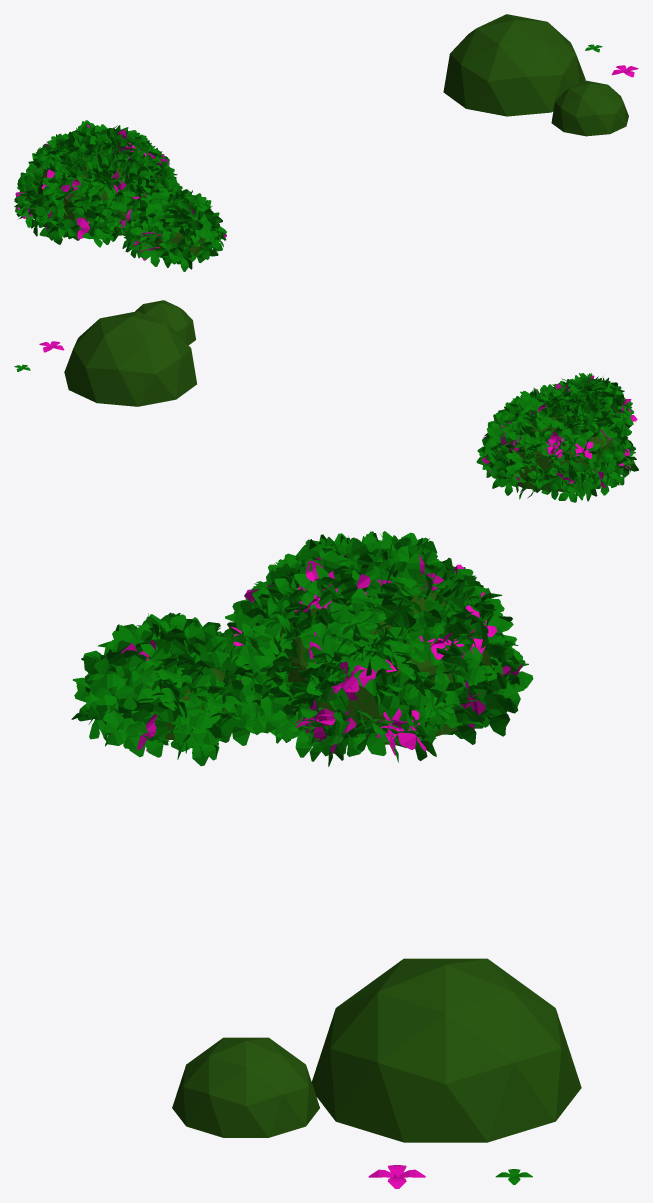
File: Arbusto_Colorido.fbx
The picture shows the model from 3 angles, top to bottom: view 1: azimuth 30°, elevation 25°; view 2: azimuth 150°, elevation 25°; view 3: azimuth 270°, elevation 25°; orthographic projection. The views are drawn at different scales.
Visible parts, largest first — view 1: Arbusto.001, Arbusto; view 2: Arbusto.001, Arbusto; view 3: Arbusto.001, Arbusto.
Boxes of the visible parts, left/top/right/bottom form: Arbusto.001: left=443, top=14, right=628, bottom=136; Arbusto: left=32, top=146, right=205, bottom=255; Arbusto.001: left=64, top=300, right=196, bottom=406; Arbusto: left=498, top=388, right=624, bottom=491; Arbusto.001: left=172, top=958, right=581, bottom=1142; Arbusto: left=103, top=573, right=492, bottom=744.
Size of the model in its own units: 985 by 137 by 376.
